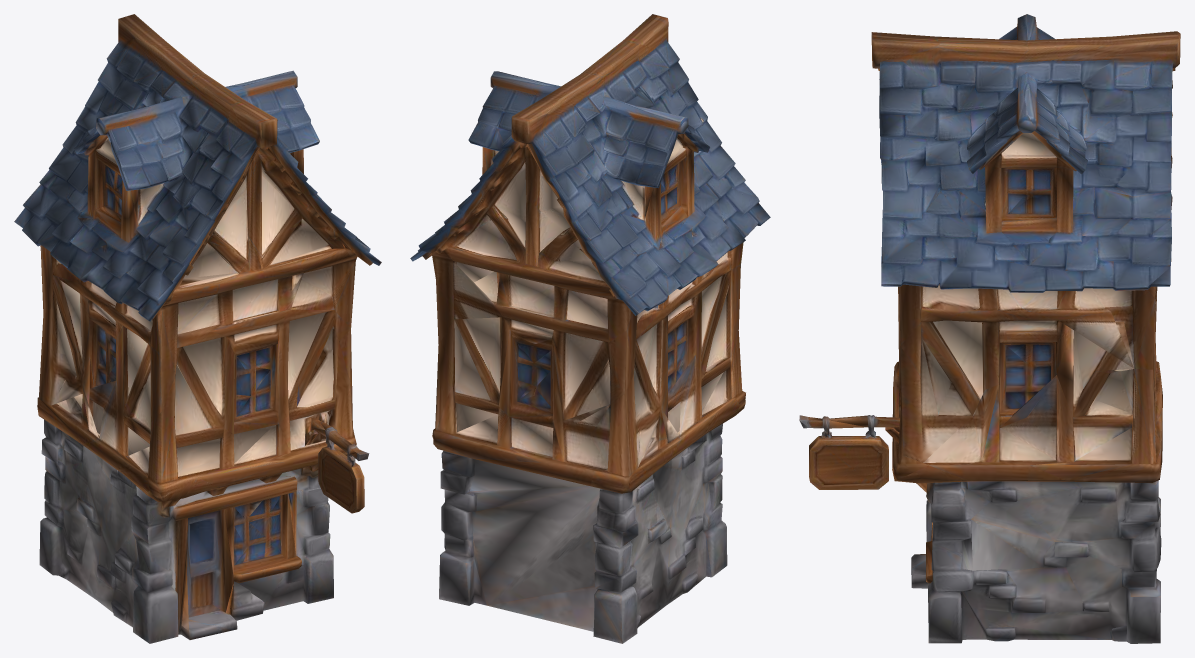
The model's file is house_c.glb.
The picture shows the model from 3 angles, left to right: view 1: azimuth 30°, elevation 25°; view 2: azimuth 150°, elevation 25°; view 3: azimuth 270°, elevation 25°; orthographic projection. The views are drawn at different scales.
Parts seen in each view (by area): view 1: house_c; view 2: house_c; view 3: house_c.
Boxes of the visible parts, x1,y1,x2,y2 form: house_c: (14,14,381,643); house_c: (410,14,770,643); house_c: (799,14,1180,643).
Bounding box in the file's own units: 4.41 × 8.79 × 5.42.
1 material, 1 textured.
